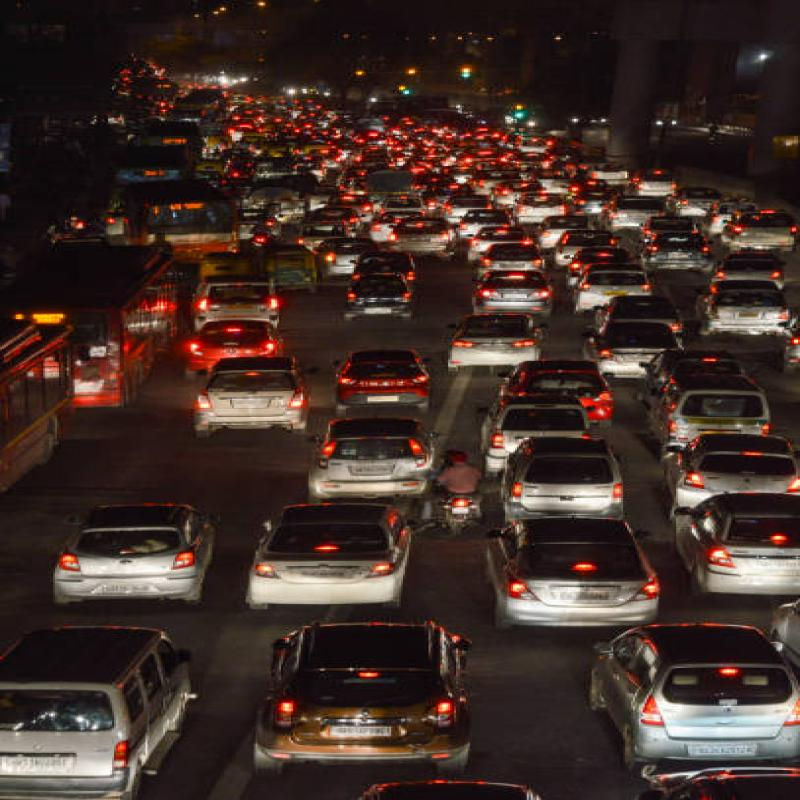car: (3, 603, 210, 800), (226, 611, 488, 753), (584, 618, 800, 763), (470, 499, 664, 642), (256, 477, 421, 628), (48, 488, 216, 615), (677, 484, 800, 606), (315, 402, 419, 505), (189, 350, 311, 436), (506, 426, 605, 521), (503, 350, 625, 420), (705, 254, 800, 342), (685, 441, 800, 510), (663, 379, 769, 451), (340, 335, 437, 403), (450, 310, 544, 369), (340, 267, 426, 327)
